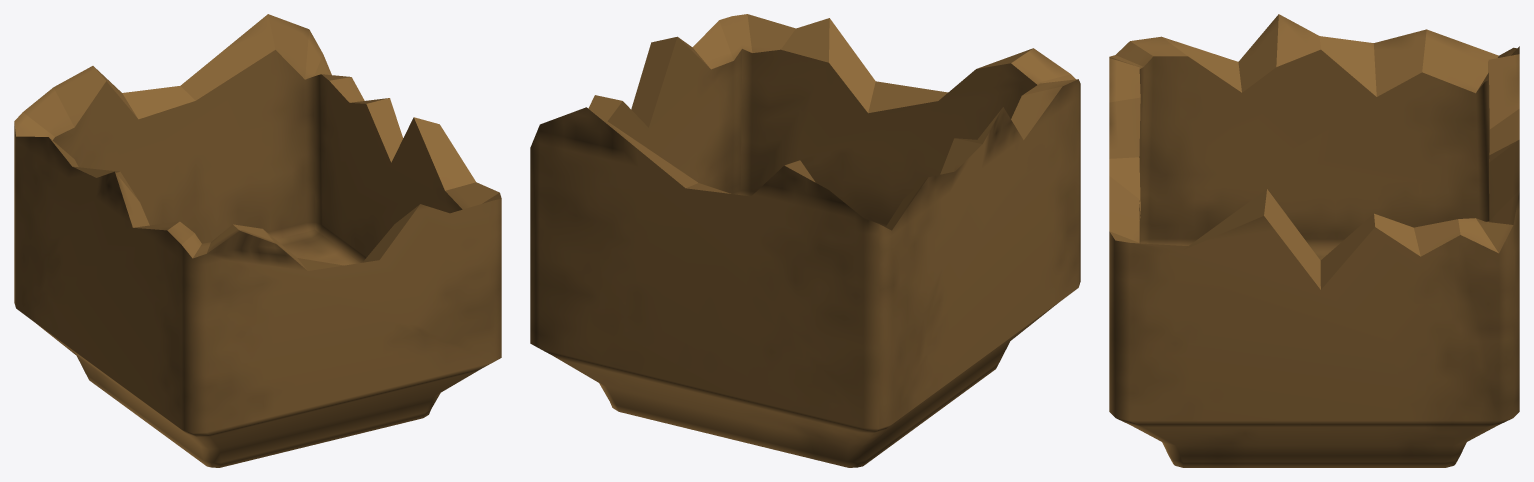
Rendered from Pot_1_break_2.fbx.
3 views of the same model, side by side, from view 1: azimuth 30°, elevation 25°; view 2: azimuth 150°, elevation 25°; view 3: azimuth 270°, elevation 25° (orthographic). The views are drawn at different scales.
Parts seen in each view (by area): view 1: Pot_1_break_2; view 2: Pot_1_break_2; view 3: Pot_1_break_2.
Boxes of the visible parts, <box> form: Pot_1_break_2: <box>14,14,501,467</box>; Pot_1_break_2: <box>530,14,1080,467</box>; Pot_1_break_2: <box>1109,14,1519,467</box>.
Bounding box in the file's own units: 37.02 × 32.61 × 37.02.
